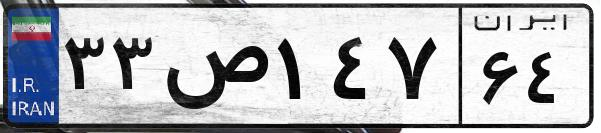1: (270, 28, 330, 110)
3: (57, 26, 110, 100), (110, 28, 158, 98)
4: (330, 28, 385, 110), (525, 38, 570, 115)
6: (475, 38, 525, 113)
7: (385, 28, 445, 110)
ص: (158, 20, 270, 120)
